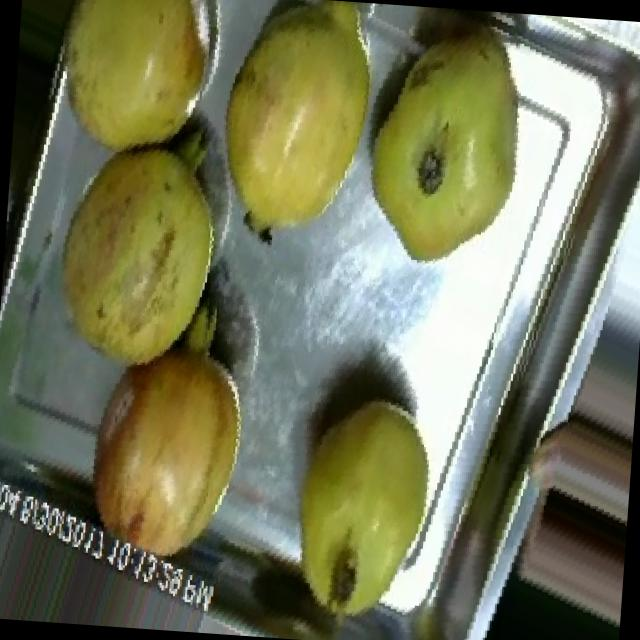fruit: (21, 116, 255, 396), (339, 9, 553, 292), (64, 313, 278, 592), (259, 364, 464, 640), (190, 0, 396, 269), (21, 0, 238, 184), (504, 493, 628, 640)
